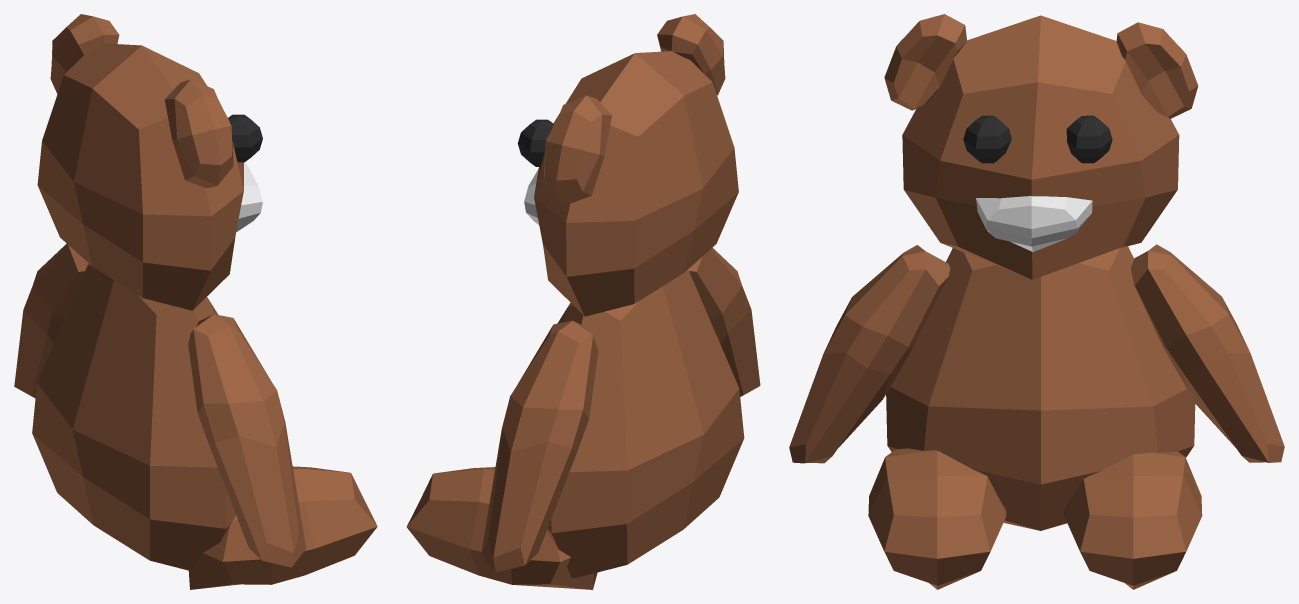
File: Ursinho.fbx
3 renders of one model, left to right at view 1: azimuth 30°, elevation 25°; view 2: azimuth 150°, elevation 25°; view 3: azimuth 270°, elevation 25°, orthographic.
Visible parts, largest first — view 1: Ursinho; view 2: Ursinho; view 3: Ursinho.
Boxes of the visible parts, x1,y1,x2,y2 form: Ursinho: (14,14,377,589); Ursinho: (406,14,760,589); Ursinho: (789,14,1284,589).
Size of the model in its own units: 20.33 by 41.67 by 36.31.
